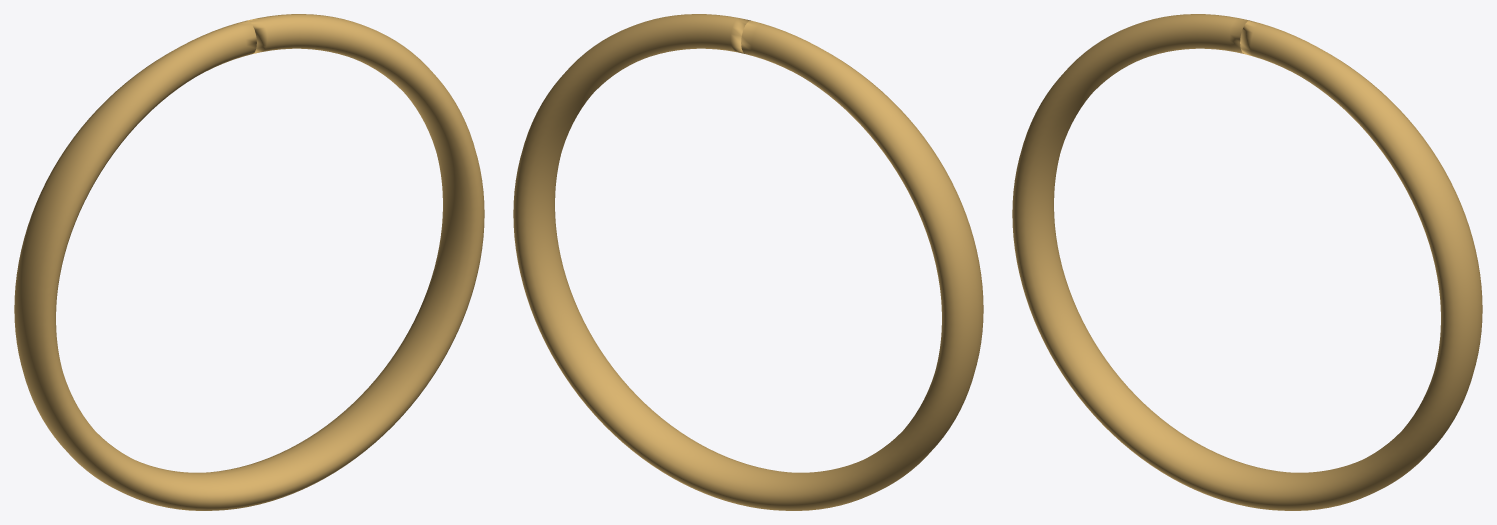
File: bands-tapered.glb
The picture shows the model from 3 angles, left to right: view 1: azimuth 30°, elevation 25°; view 2: azimuth 150°, elevation 25°; view 3: azimuth 330°, elevation 25°; orthographic projection.
Parts seen in each view (by area): view 1: Band; view 2: Band; view 3: Band.
Boxes of the visible parts, x1,y1,x2,y2 form: Band: (14, 14, 484, 510); Band: (513, 14, 983, 510); Band: (1012, 14, 1482, 510).
Bounding box in the file's own units: 19.6 × 19.6 × 2.1.
